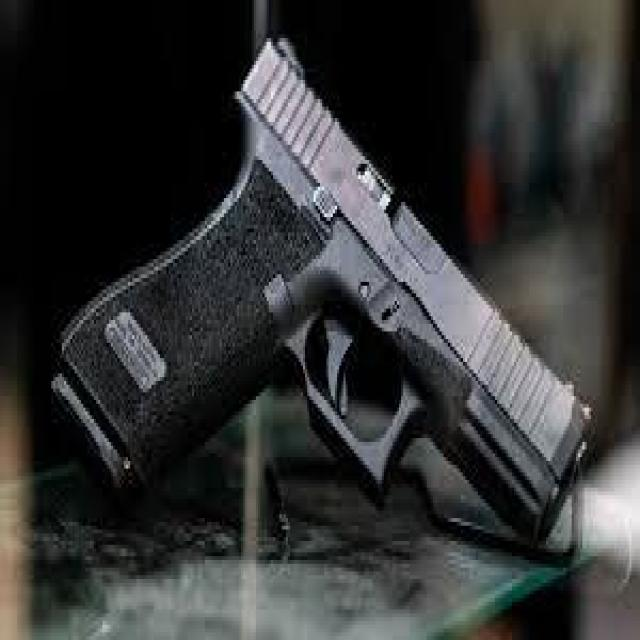gun: (49, 38, 589, 545)
